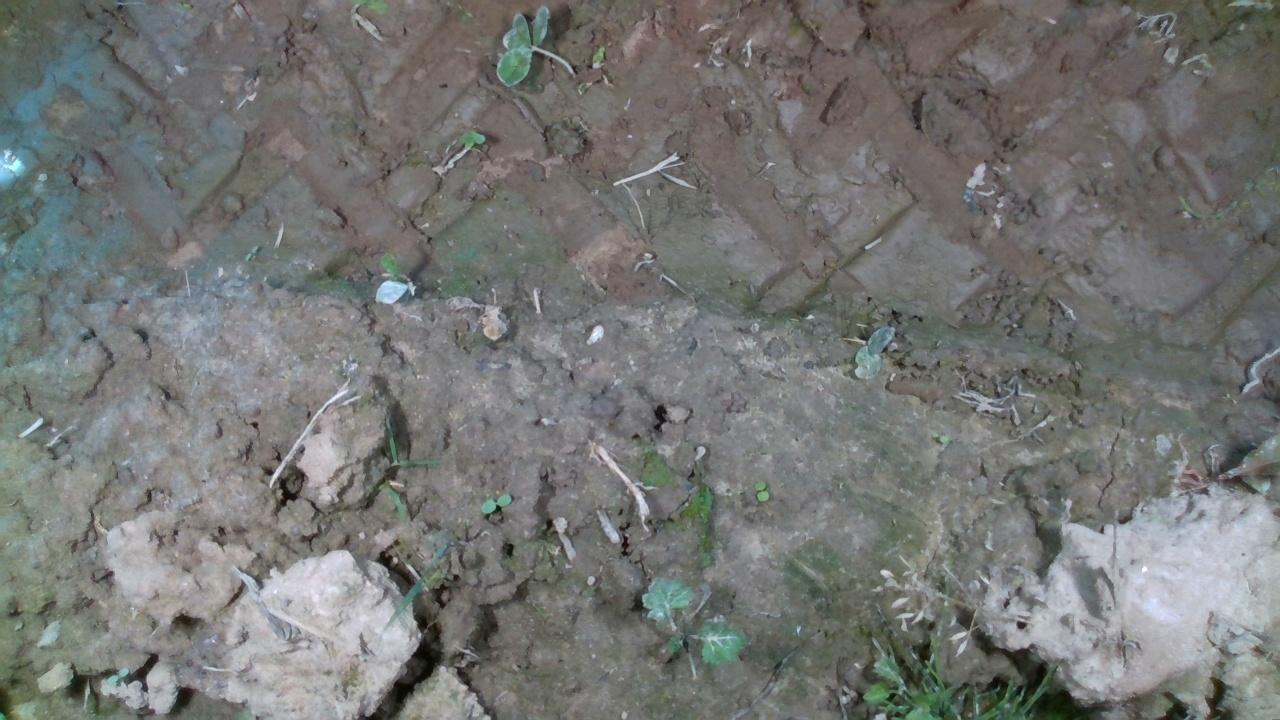weed: (477, 490, 512, 516), (752, 475, 770, 503)
